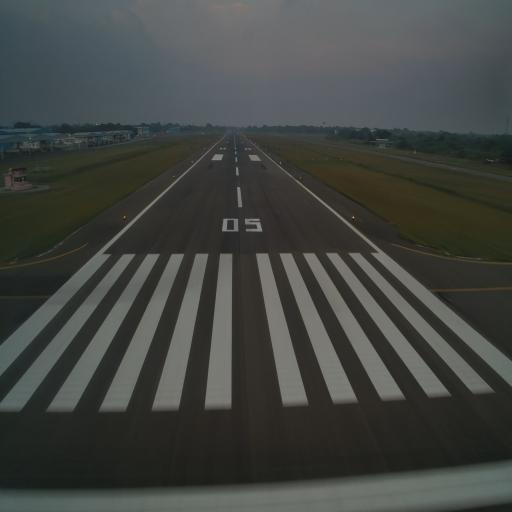on: (351, 212, 356, 222), (123, 214, 127, 221)
